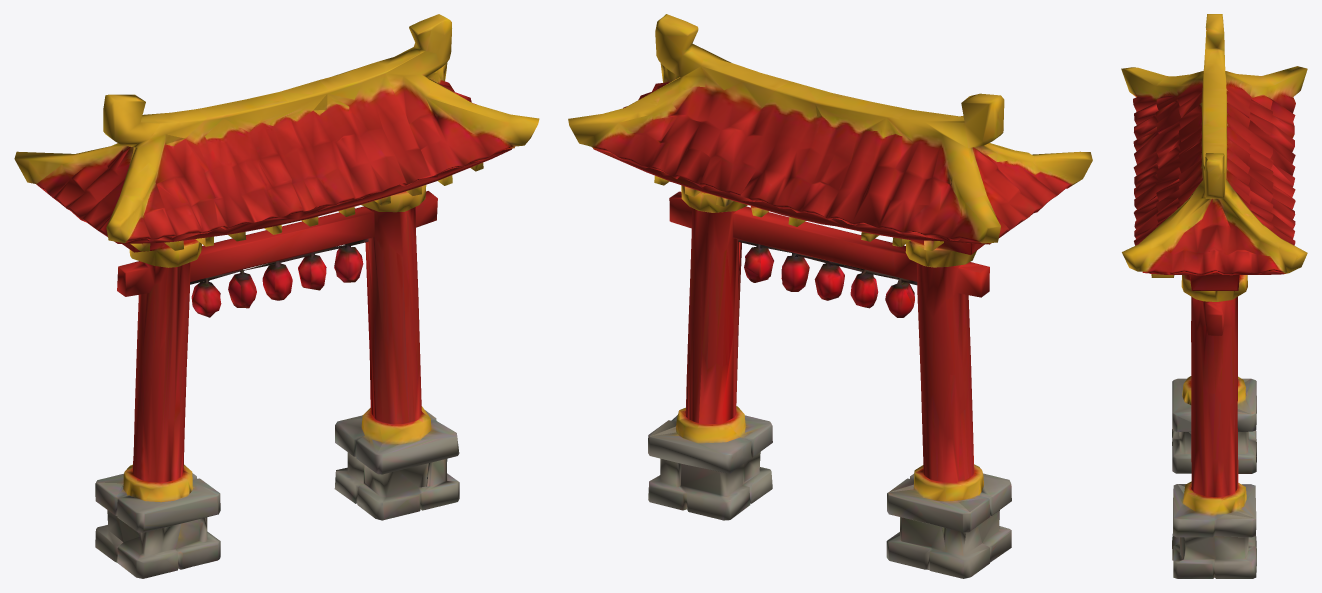
File: prop_lantern_gate.glb
3 views of the same model, side by side, from view 1: azimuth 30°, elevation 25°; view 2: azimuth 150°, elevation 25°; view 3: azimuth 270°, elevation 25° (orthographic). The views are drawn at different scales.
Visible parts, largest first — view 1: tripo_node_e36d8eb4-1c79-4fe1-8cb9-6222cebeb189; view 2: tripo_node_e36d8eb4-1c79-4fe1-8cb9-6222cebeb189; view 3: tripo_node_e36d8eb4-1c79-4fe1-8cb9-6222cebeb189.
Part boxes in pixels (x1,y1,x2,y2): tripo_node_e36d8eb4-1c79-4fe1-8cb9-6222cebeb189: [14, 14, 539, 578]; tripo_node_e36d8eb4-1c79-4fe1-8cb9-6222cebeb189: [568, 14, 1092, 578]; tripo_node_e36d8eb4-1c79-4fe1-8cb9-6222cebeb189: [1121, 14, 1307, 578].
Bounding box in the file's own units: 0.9512 × 0.9786 × 0.3932.
1 material, 1 textured.
